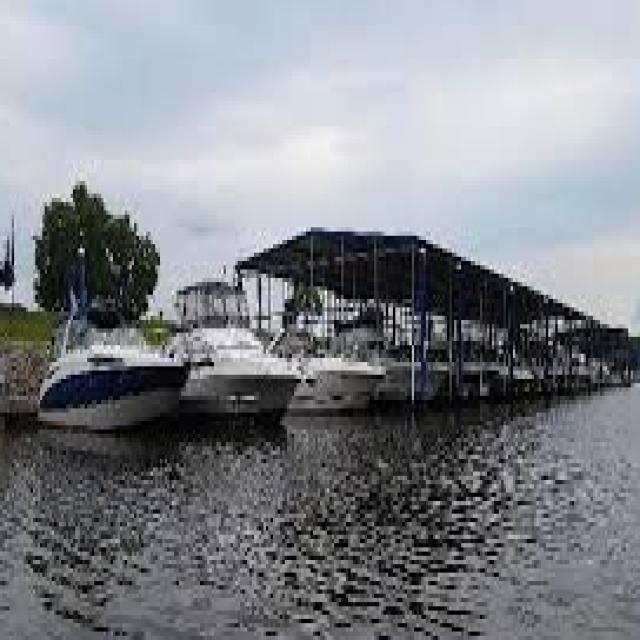houseboat: (23, 271, 194, 445), (170, 256, 296, 419), (274, 235, 391, 408)
